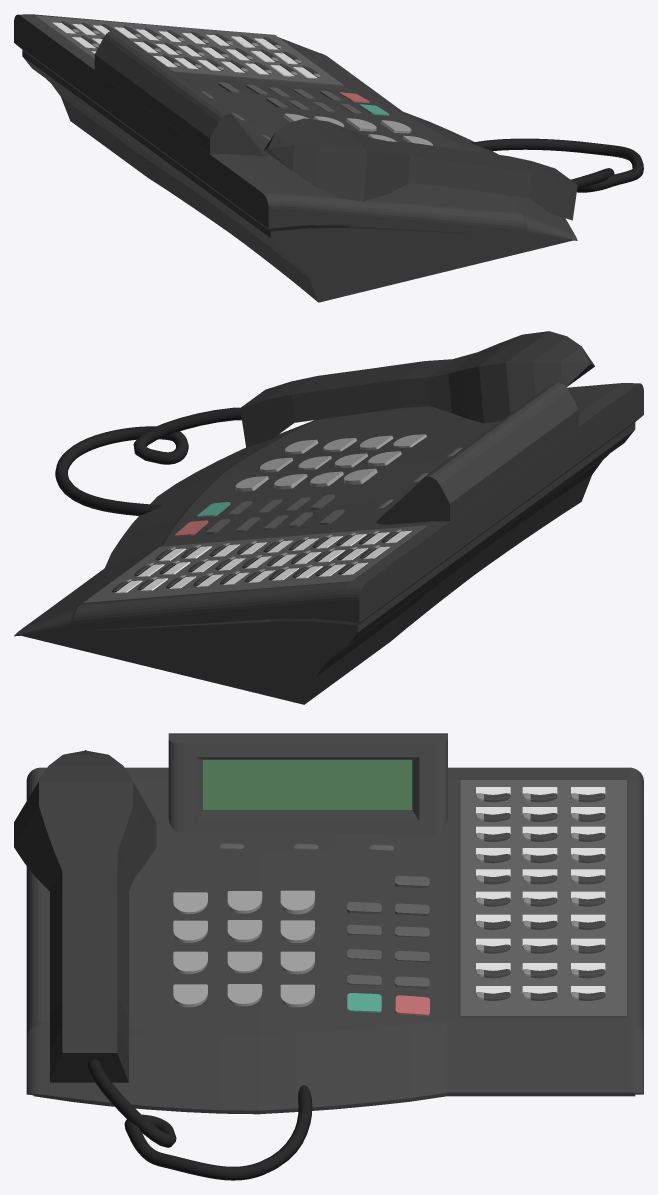
The model's file is office_phone.gltf.
3 renders of one model, top to bottom at view 1: azimuth 30°, elevation 25°; view 2: azimuth 150°, elevation 25°; view 3: azimuth 270°, elevation 25°, orthographic. The views are drawn at different scales.
Visible parts, largest first — view 1: Cube, Cube.120, Cube.001, Cube.002, BezierCurve; view 2: Cube, Cube.120, Cube.001, Cube.002, BezierCurve; view 3: Cube, Cube.120, Cube.002, Cube.001, Cube.117, BezierCurve, Cube.095, Cube.104, Cube.101, Cube.102, Cube.098, Cube.094 (+8 smaller).
Part boxes in pixels (left/top/right/bottom): Cube: left=14, top=14, right=577, bottom=302; Cube.120: left=264, top=118, right=577, bottom=220; Cube.001: left=94, top=30, right=271, bottom=156; Cube.002: left=36, top=15, right=343, bottom=86; BezierCurve: left=471, top=138, right=643, bottom=192; Cube: left=14, top=383, right=643, bottom=704; Cube.120: left=240, top=331, right=594, bottom=447; Cube.001: left=376, top=382, right=578, bottom=524; Cube.002: left=83, top=525, right=427, bottom=604; BezierCurve: left=55, top=407, right=241, bottom=515; Cube: left=26, top=767, right=643, bottom=1114; Cube.120: left=14, top=750, right=156, bottom=1082; Cube.002: left=460, top=780, right=626, bottom=1017; Cube.001: left=168, top=733, right=447, bottom=834; Cube.117: left=203, top=759, right=412, bottom=809; BezierCurve: left=87, top=1059, right=312, bottom=1180; Cube.095: left=280, top=890, right=314, bottom=914; Cube.104: left=280, top=984, right=314, bottom=1007; Cube.101: left=280, top=951, right=314, bottom=974; Cube.102: left=173, top=984, right=207, bottom=1007; Cube.098: left=280, top=920, right=314, bottom=942; Cube.094: left=227, top=891, right=262, bottom=913.
Size of the model in its own units: 3.59 by 1.29 by 3.66.
